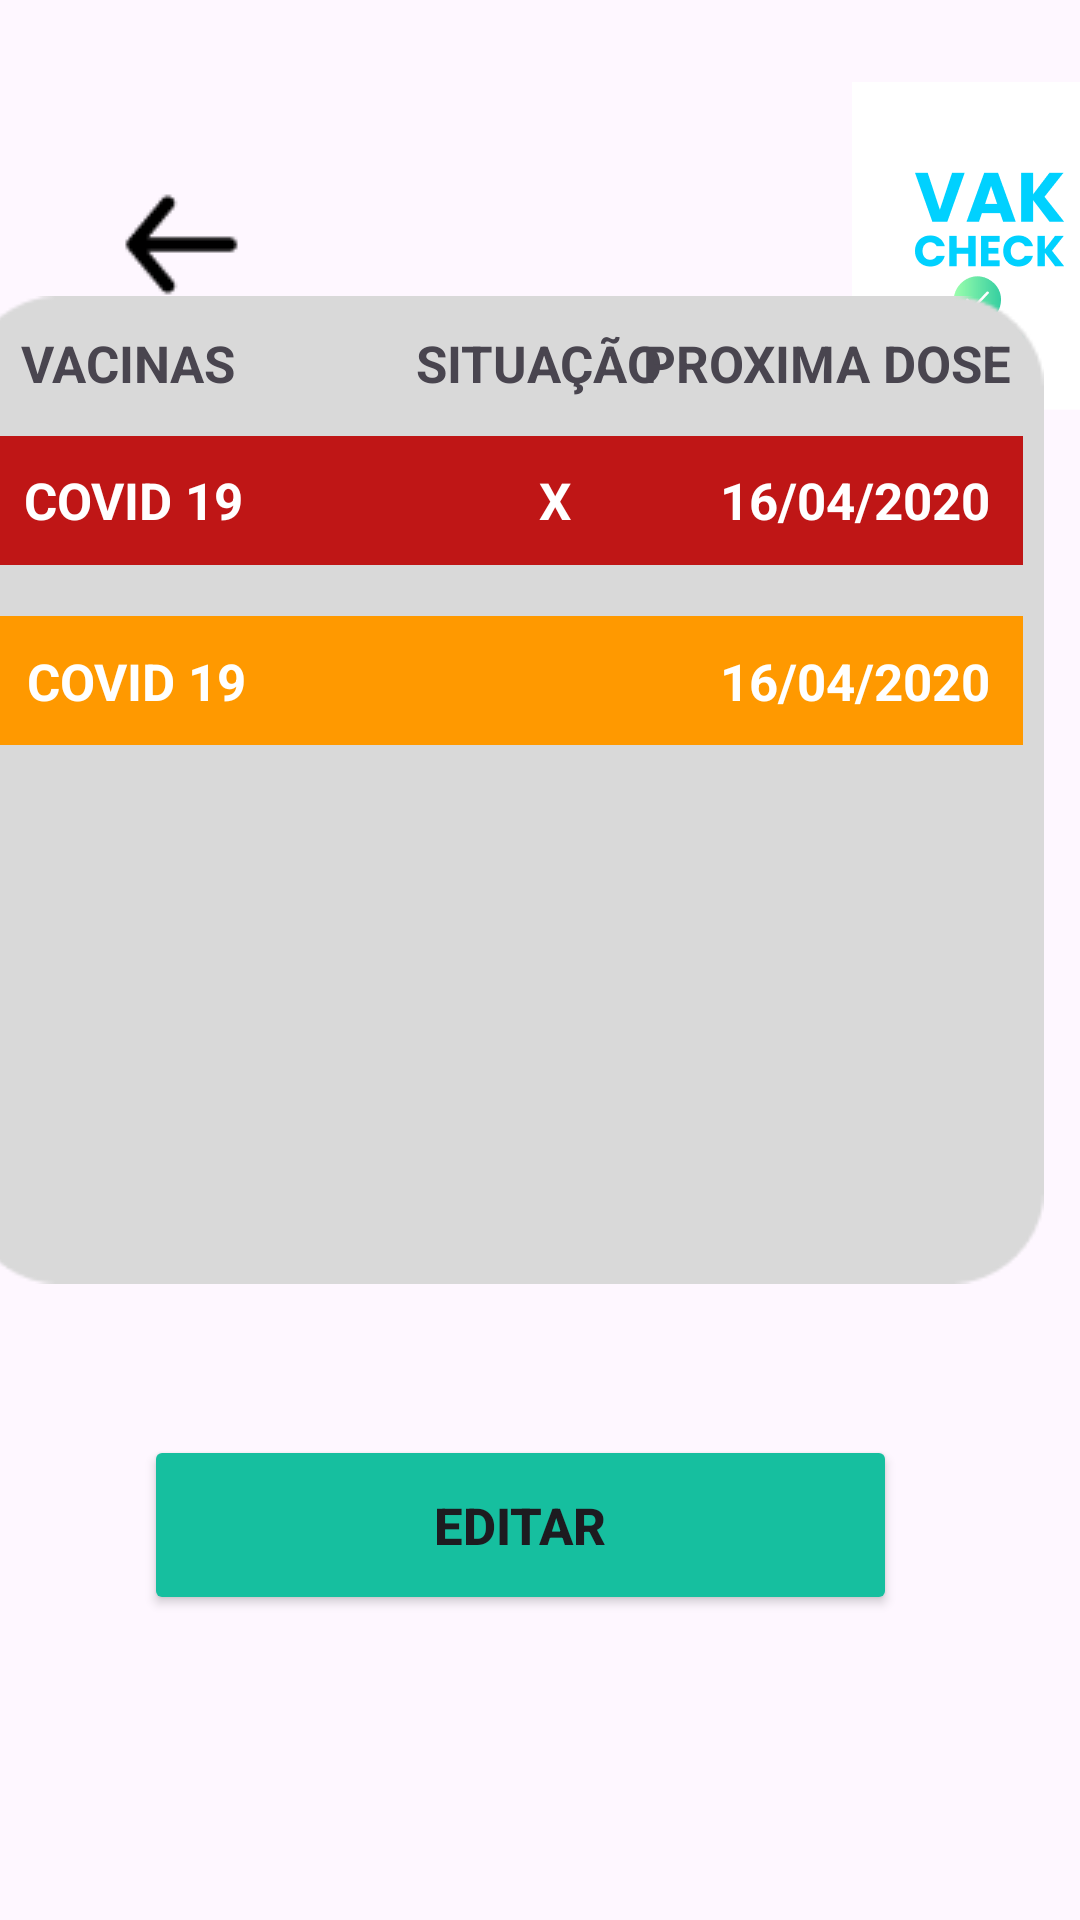

Icons on this 1080px x 1920px Android screen, each with its box as (x1, y1, x2, y2):
voltar: (99, 194, 264, 327)
